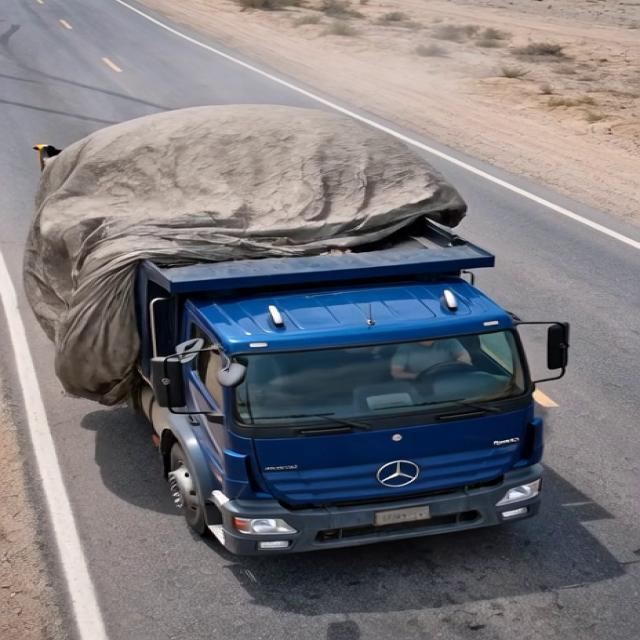trailer: (24, 133, 490, 274)
truck: (14, 97, 580, 547)
